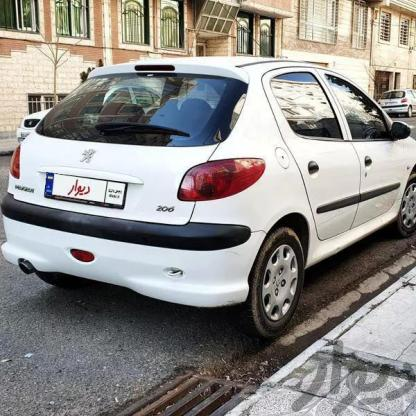Car: (0, 56, 416, 338), (361, 84, 416, 120)
